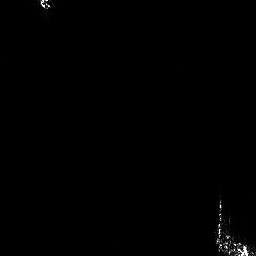ship: (213, 193, 255, 256)
